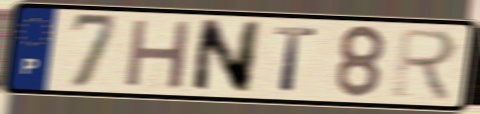7: (67, 10, 119, 91)
8: (335, 24, 386, 101)
H: (122, 16, 195, 91)
N: (188, 17, 265, 95)
R: (390, 26, 460, 104)
T: (271, 24, 320, 95)
